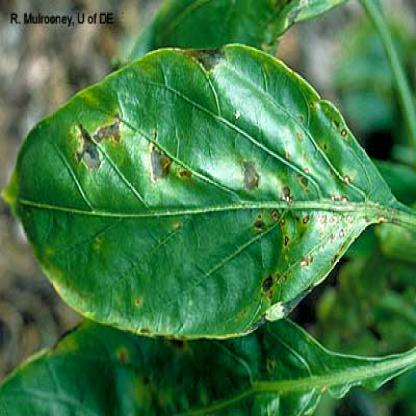bell pepper leaf spot: (2, 39, 389, 341)
